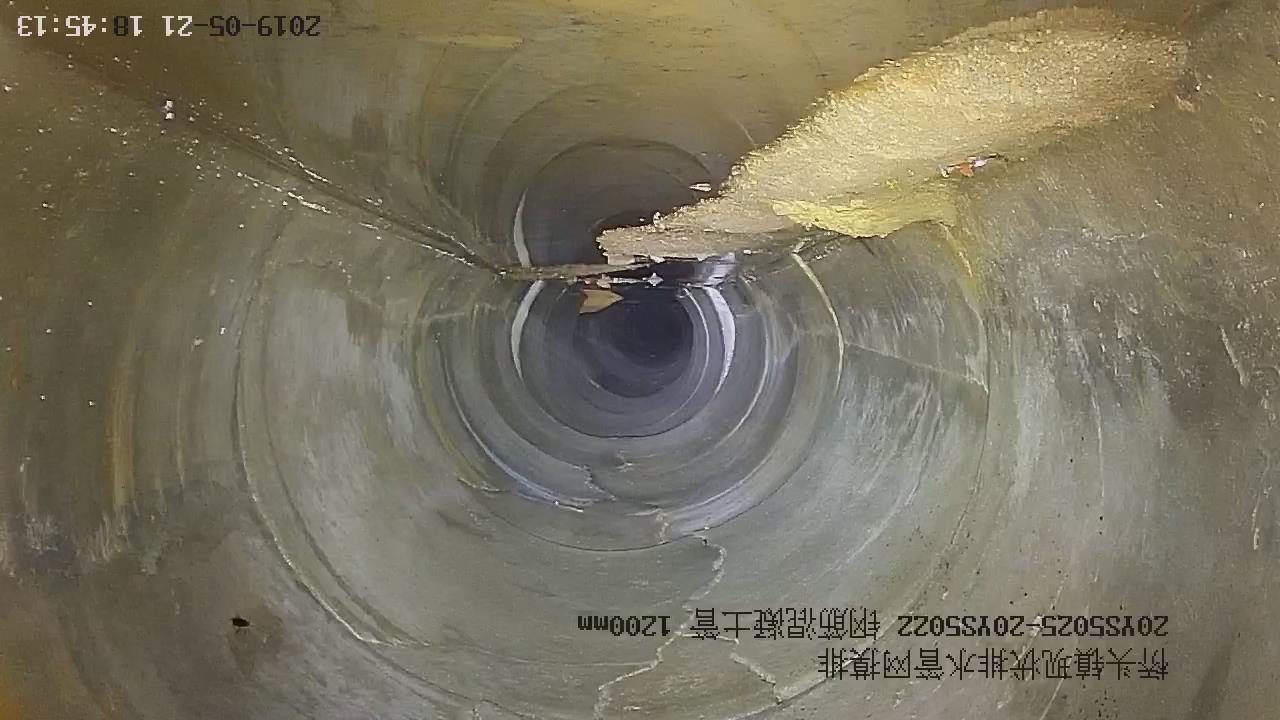CJ: (509, 8, 1187, 283)
CKTJ: (693, 279, 736, 394), (510, 279, 549, 383)
PL: (537, 448, 789, 719)
